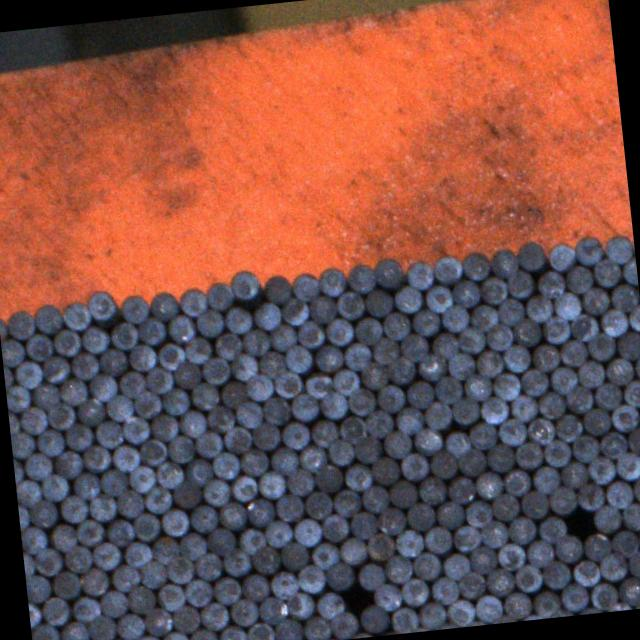tool: (371, 256, 404, 289), (31, 300, 63, 334), (227, 267, 259, 300), (344, 261, 376, 294), (572, 233, 604, 266), (514, 238, 546, 270), (432, 252, 462, 286), (60, 298, 91, 330), (510, 315, 541, 347), (288, 391, 320, 422), (148, 289, 178, 322), (488, 246, 518, 279), (4, 308, 34, 340), (86, 288, 116, 320), (118, 292, 148, 324), (204, 280, 234, 312), (290, 272, 320, 304), (460, 249, 490, 281), (602, 232, 632, 264), (307, 293, 337, 325), (200, 354, 230, 386), (220, 424, 252, 454), (177, 286, 208, 316), (261, 274, 292, 304), (164, 312, 194, 343), (334, 289, 364, 320), (362, 287, 392, 318), (478, 274, 508, 305), (96, 347, 127, 377), (467, 302, 498, 332), (551, 290, 581, 321), (228, 351, 258, 382), (342, 341, 372, 372), (93, 418, 123, 449), (260, 394, 290, 425), (345, 386, 376, 416), (374, 382, 404, 413), (394, 404, 424, 435), (603, 355, 633, 386), (496, 416, 526, 447), (114, 488, 144, 519), (138, 558, 168, 589), (375, 506, 406, 536), (364, 530, 394, 561), (317, 266, 346, 298), (505, 268, 534, 300), (599, 306, 628, 338), (18, 404, 47, 436), (546, 242, 576, 272), (50, 326, 80, 356), (279, 295, 309, 325), (450, 278, 480, 308), (182, 334, 212, 364), (324, 316, 354, 346), (352, 316, 382, 346), (580, 285, 610, 315), (314, 342, 344, 372), (398, 332, 428, 362), (568, 312, 598, 342), (44, 400, 74, 430), (220, 380, 250, 410), (272, 368, 302, 398), (417, 352, 447, 382), (446, 350, 476, 380), (586, 332, 616, 362), (148, 412, 178, 442), (165, 433, 195, 463), (280, 420, 310, 450), (309, 418, 339, 448), (433, 374, 463, 404), (362, 408, 392, 438), (462, 372, 492, 402), (490, 371, 520, 401), (518, 366, 548, 396), (592, 380, 622, 410), (210, 450, 240, 480), (269, 445, 299, 475), (412, 426, 442, 456), (468, 420, 498, 450), (552, 412, 582, 442), (581, 406, 611, 436), (32, 546, 62, 576), (216, 500, 246, 530), (244, 497, 274, 527), (302, 490, 332, 520), (360, 483, 390, 513), (165, 554, 195, 584), (250, 544, 280, 574), (310, 540, 340, 570), (404, 501, 434, 531), (125, 584, 155, 614), (212, 576, 242, 606), (268, 570, 298, 600), (296, 563, 326, 593), (324, 560, 354, 590), (394, 528, 424, 558), (398, 576, 428, 606), (494, 541, 524, 571), (456, 569, 486, 599), (512, 562, 542, 592), (540, 559, 570, 589), (258, 595, 288, 625), (423, 283, 452, 314), (13, 358, 42, 389), (172, 359, 201, 390), (131, 389, 162, 418), (249, 421, 280, 450), (485, 566, 514, 597), (405, 258, 433, 290), (592, 256, 620, 288), (110, 563, 142, 591), (80, 324, 109, 354), (109, 320, 138, 350), (194, 307, 223, 337), (222, 305, 252, 334), (534, 270, 564, 299), (563, 264, 592, 294), (40, 354, 70, 383), (68, 351, 98, 380), (126, 343, 156, 372), (156, 342, 186, 371), (213, 331, 242, 361), (382, 310, 411, 340), (410, 308, 440, 337), (440, 302, 469, 332), (524, 293, 553, 323), (609, 282, 638, 312), (30, 382, 60, 411), (89, 372, 118, 402), (256, 350, 286, 379), (370, 335, 399, 365), (430, 330, 459, 360), (540, 314, 569, 344), (160, 386, 190, 415), (190, 380, 219, 410), (530, 342, 560, 371), (558, 338, 588, 367), (63, 422, 93, 451), (110, 443, 140, 472), (177, 408, 206, 438), (138, 437, 168, 466), (422, 400, 452, 429), (548, 364, 577, 394), (478, 395, 508, 424), (575, 358, 604, 388), (508, 393, 538, 422), (536, 390, 566, 419), (127, 464, 156, 494), (155, 460, 184, 490), (299, 444, 328, 474), (382, 430, 412, 459), (59, 493, 88, 523), (143, 484, 172, 514), (172, 479, 202, 508), (342, 463, 372, 492), (399, 452, 428, 482), (542, 438, 571, 468), (74, 518, 104, 547), (63, 543, 92, 573), (160, 508, 189, 538), (189, 504, 218, 534), (435, 500, 465, 529), (182, 578, 212, 607), (592, 503, 621, 533), (411, 550, 440, 580), (429, 576, 458, 606), (142, 607, 172, 636), (170, 603, 199, 633), (199, 601, 228, 631), (588, 581, 618, 610), (384, 552, 412, 583), (393, 285, 422, 314), (240, 328, 269, 357), (104, 393, 133, 422), (360, 360, 389, 389), (51, 449, 80, 478), (234, 399, 263, 428), (23, 452, 52, 481), (337, 415, 366, 444), (123, 540, 152, 569), (609, 529, 638, 558), (446, 598, 475, 627), (473, 593, 502, 622), (24, 332, 52, 362), (252, 300, 280, 330), (268, 322, 296, 352), (496, 296, 524, 326), (144, 365, 172, 395), (284, 343, 312, 373), (456, 324, 484, 354), (484, 322, 512, 352), (76, 396, 104, 426), (331, 366, 359, 396), (474, 348, 502, 378), (36, 427, 64, 457), (80, 444, 110, 472), (204, 404, 234, 432), (100, 468, 128, 498), (184, 459, 214, 487), (238, 448, 268, 476), (28, 498, 56, 528), (202, 477, 230, 507), (257, 469, 285, 499), (371, 456, 399, 486), (456, 448, 486, 476), (132, 512, 160, 542), (92, 540, 120, 570), (150, 536, 178, 566), (274, 492, 302, 522), (532, 464, 560, 494), (586, 456, 616, 484), (80, 566, 108, 596), (178, 532, 206, 562), (206, 526, 234, 556), (292, 518, 322, 546), (463, 498, 491, 528), (576, 482, 604, 512), (240, 572, 268, 602), (338, 535, 366, 565), (422, 526, 452, 554), (506, 516, 536, 544), (525, 538, 553, 568), (582, 532, 610, 562), (229, 596, 257, 626), (316, 590, 344, 620), (598, 552, 626, 582), (328, 610, 358, 638), (359, 604, 389, 632), (560, 582, 588, 612), (296, 319, 324, 348), (58, 377, 86, 406), (118, 370, 146, 399), (245, 372, 273, 401), (502, 343, 530, 372), (193, 430, 222, 458), (319, 389, 347, 418), (449, 396, 478, 424), (564, 386, 593, 414), (40, 473, 68, 502), (353, 434, 382, 462), (610, 404, 639, 432), (314, 463, 342, 492), (486, 443, 514, 472), (417, 476, 445, 505), (502, 468, 530, 497), (263, 519, 292, 547), (221, 548, 250, 576), (348, 510, 376, 539), (490, 492, 519, 520), (520, 489, 548, 518), (157, 582, 186, 610), (452, 524, 481, 552), (479, 520, 508, 548), (538, 515, 566, 544), (553, 534, 582, 562), (372, 582, 401, 610), (115, 612, 144, 640), (418, 602, 447, 630), (404, 381, 434, 408), (41, 596, 68, 626), (469, 544, 496, 574), (614, 329, 640, 360), (136, 316, 164, 344), (386, 356, 414, 384), (72, 472, 100, 500), (230, 474, 258, 502), (286, 468, 314, 496), (514, 441, 542, 469), (570, 434, 598, 462), (598, 431, 626, 459), (388, 479, 416, 507), (238, 527, 266, 555), (320, 513, 348, 541), (280, 542, 308, 570), (548, 485, 576, 513), (100, 589, 128, 617), (356, 562, 384, 590), (442, 552, 470, 580), (572, 558, 600, 586), (390, 606, 418, 634), (502, 590, 530, 618), (532, 590, 560, 618), (20, 525, 47, 554), (52, 571, 81, 598), (123, 414, 149, 444), (15, 478, 41, 508), (444, 430, 470, 460), (446, 476, 476, 502), (558, 462, 588, 488), (286, 590, 312, 620), (526, 417, 554, 444), (106, 519, 134, 546), (474, 471, 502, 498), (604, 481, 632, 508), (86, 613, 114, 640), (614, 451, 640, 480), (194, 551, 220, 580), (0, 337, 25, 367), (88, 495, 115, 522), (5, 384, 31, 412), (25, 574, 51, 602), (72, 596, 100, 622), (304, 374, 333, 399), (272, 616, 302, 640), (617, 575, 640, 606), (429, 452, 456, 478), (328, 438, 354, 464), (10, 431, 35, 458), (334, 489, 359, 516), (302, 615, 329, 640), (51, 524, 76, 550), (59, 619, 88, 640), (244, 620, 273, 640), (621, 378, 640, 407), (621, 501, 640, 530), (30, 622, 58, 640), (621, 257, 638, 285), (625, 424, 640, 454), (218, 624, 246, 640), (626, 549, 640, 579), (627, 303, 640, 331), (188, 627, 216, 640), (28, 600, 40, 627), (160, 629, 189, 640), (631, 475, 640, 504), (633, 353, 640, 382), (133, 634, 161, 640)
void: (560, 507, 594, 538), (341, 583, 374, 612)
